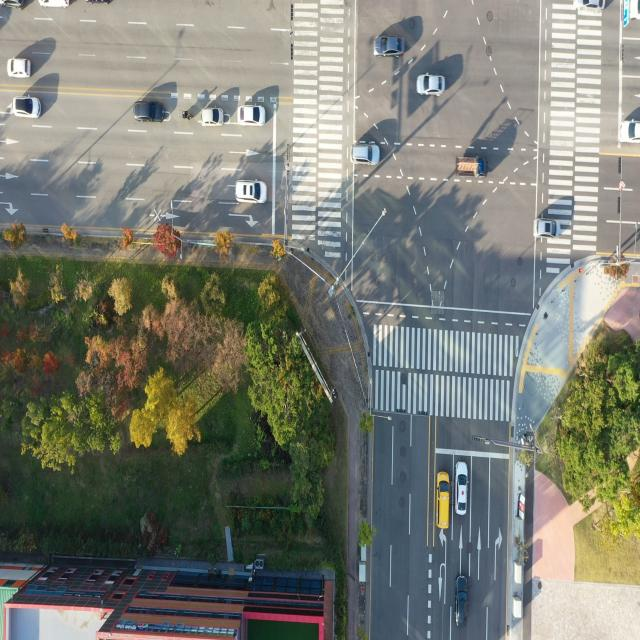car: (373, 30, 407, 58), (438, 472, 452, 532), (132, 100, 165, 125), (455, 576, 470, 630), (351, 141, 381, 167), (416, 72, 447, 97), (456, 463, 470, 518), (531, 216, 563, 240), (236, 181, 266, 204), (14, 97, 41, 120), (8, 56, 32, 81), (239, 105, 265, 126), (620, 121, 640, 145), (201, 108, 225, 126), (572, 0, 606, 11), (38, 0, 73, 9), (627, 0, 640, 20), (0, 0, 25, 10)
small_truck: (456, 154, 490, 180)
